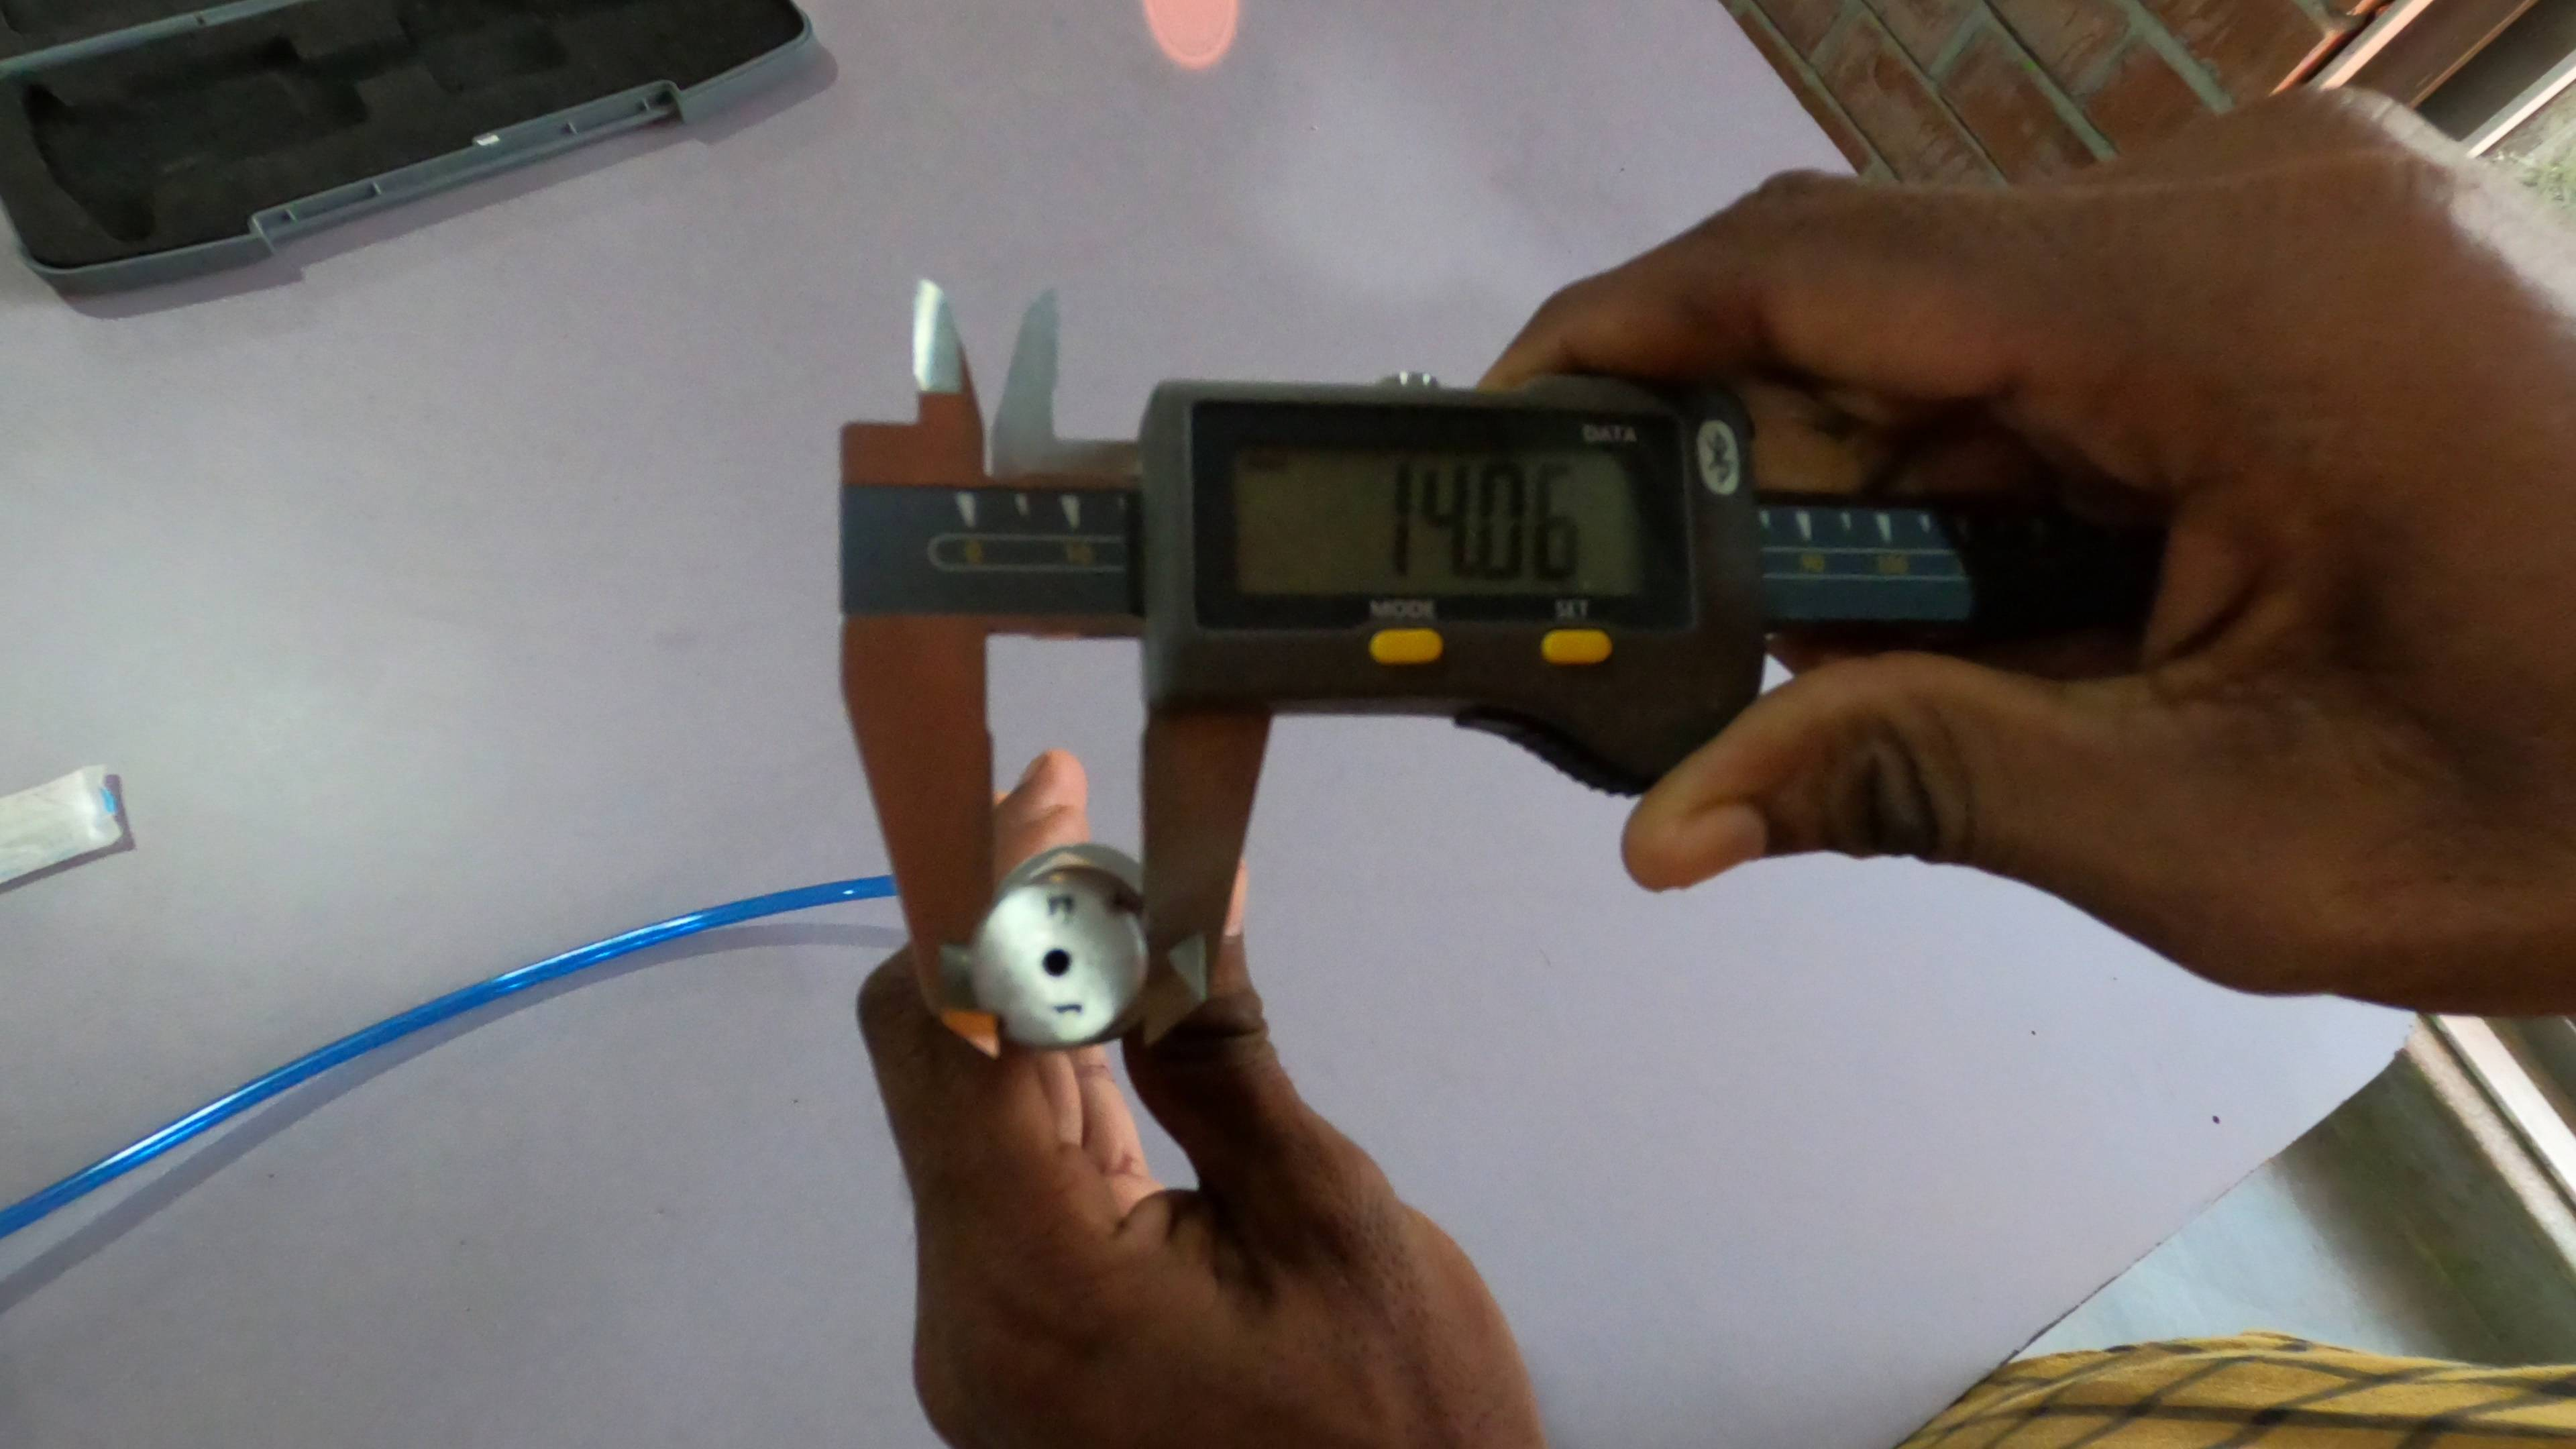vernier_caliper: (837, 269, 2125, 1063)
